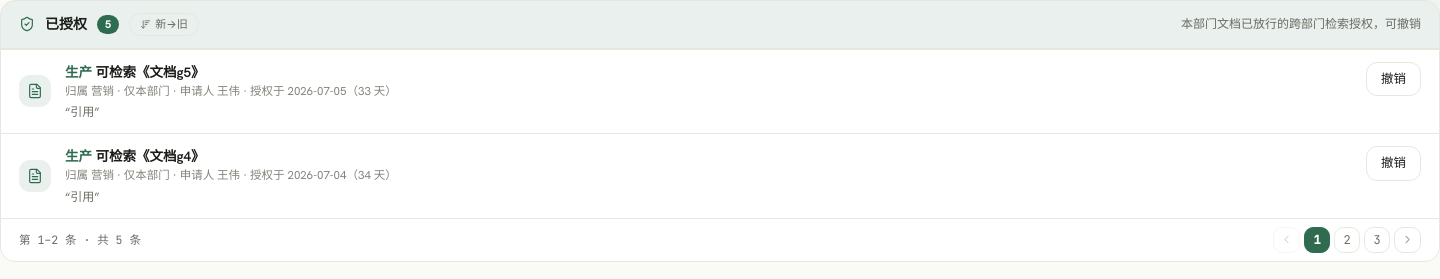
Test: AccessGrantList › 分页：5 条 → 2 条/页；默认新→旧；翻页脚显「第 x–y 条 · 共 N 条」
Check: the text "文档g1" is not shown
Check: the element with test id "queue-pager" is shown, box [1,218,1439,260]
// 翻到末页 → 最旧一条
Click the button named "下一页" at (1408, 240), box [1394,226,1421,252]
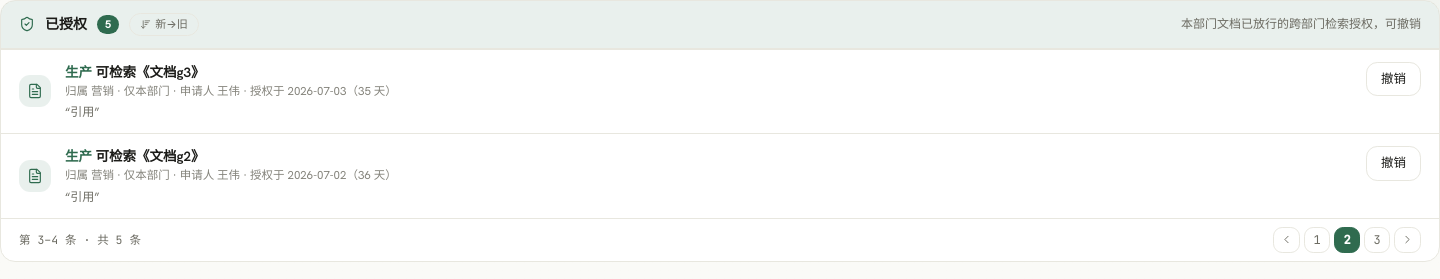
Click the button named "下一页" at (1408, 240), box [1394,226,1421,252]
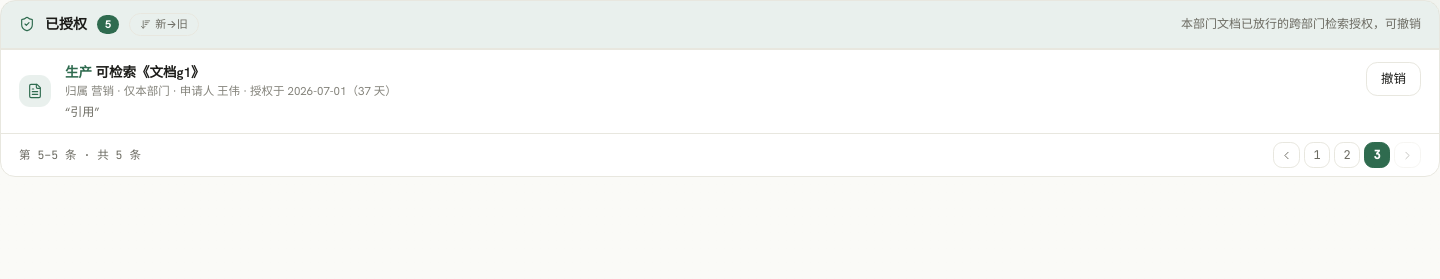
Check: the text "文档g1" is shown, box [92,62,205,80]
Check: the text with test id "pager-info" reads "第 5–5 条 · 共 5 条", box [19,147,141,162]
